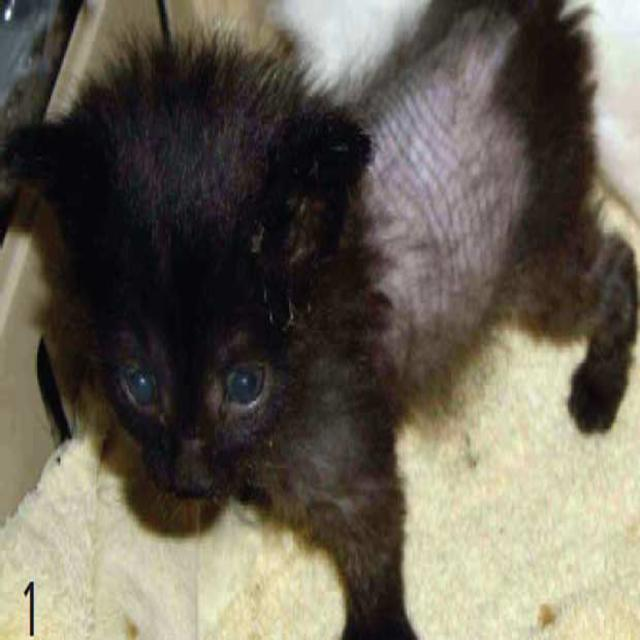hairloss: (361, 56, 521, 356)
